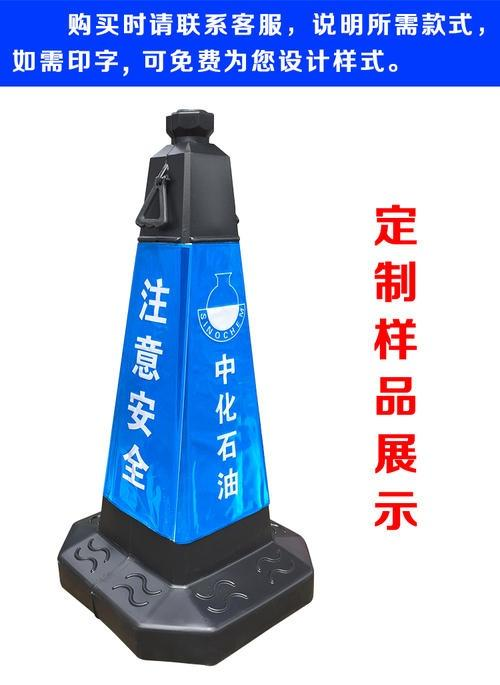cone_barrel: (61, 119, 322, 645)
